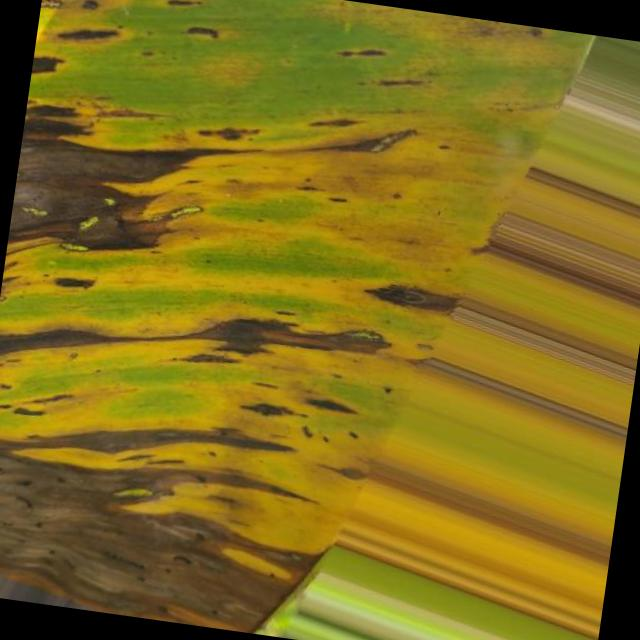Banana_Black_Sigatoka: (0, 8, 412, 373), (0, 369, 366, 640)
